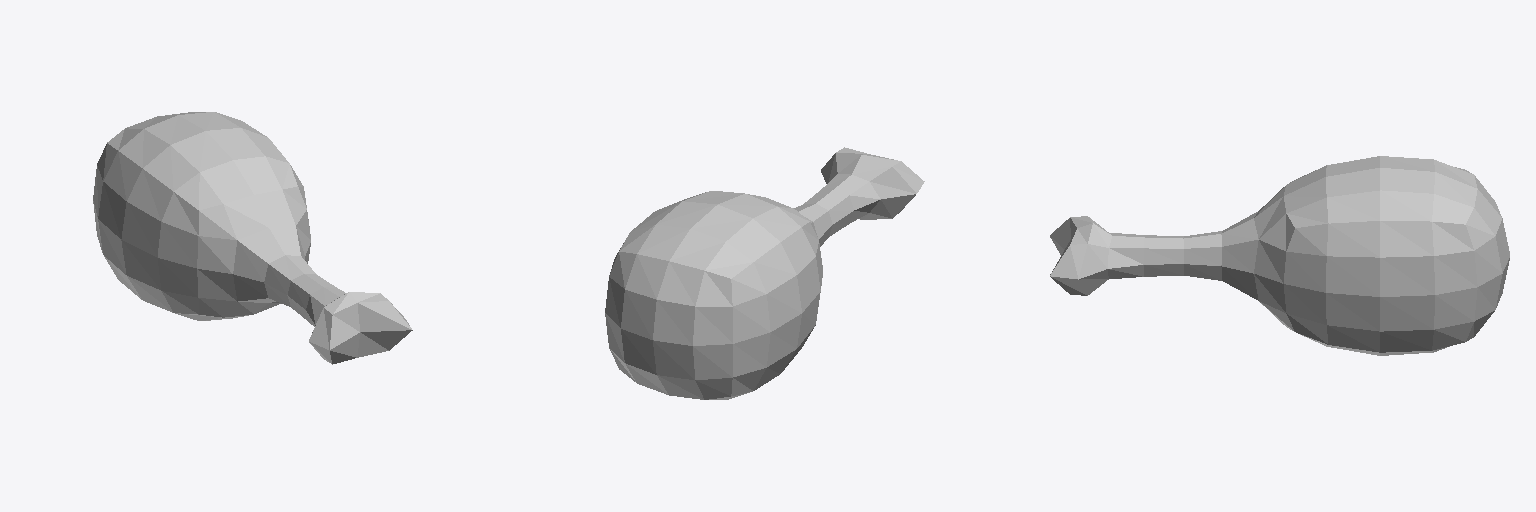
File: Big_C_Chicken_01.obj
The picture shows the model from 3 angles: view 1: azimuth 30°, elevation 25°; view 2: azimuth 150°, elevation 25°; view 3: azimuth 270°, elevation 25°; orthographic projection.
Visible parts, largest first — view 1: Chicken_01_Cube.002; view 2: Chicken_01_Cube.002; view 3: Chicken_01_Cube.002.
Boxes of the visible parts, <box> form: Chicken_01_Cube.002: <box>93,112,412,364</box>; Chicken_01_Cube.002: <box>605,147,924,399</box>; Chicken_01_Cube.002: <box>1050,156,1509,355</box>.
Size of the model in its own units: 1.27 by 1.27 by 3.01.